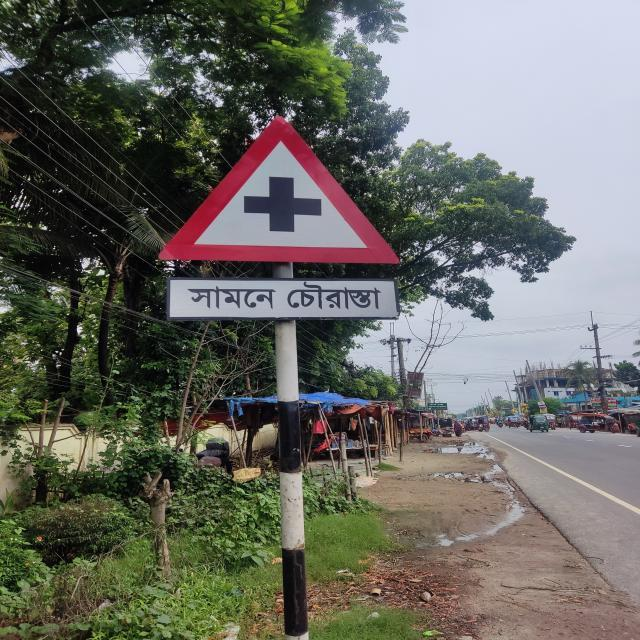Crossroads-ahead: (154, 116, 402, 326)
